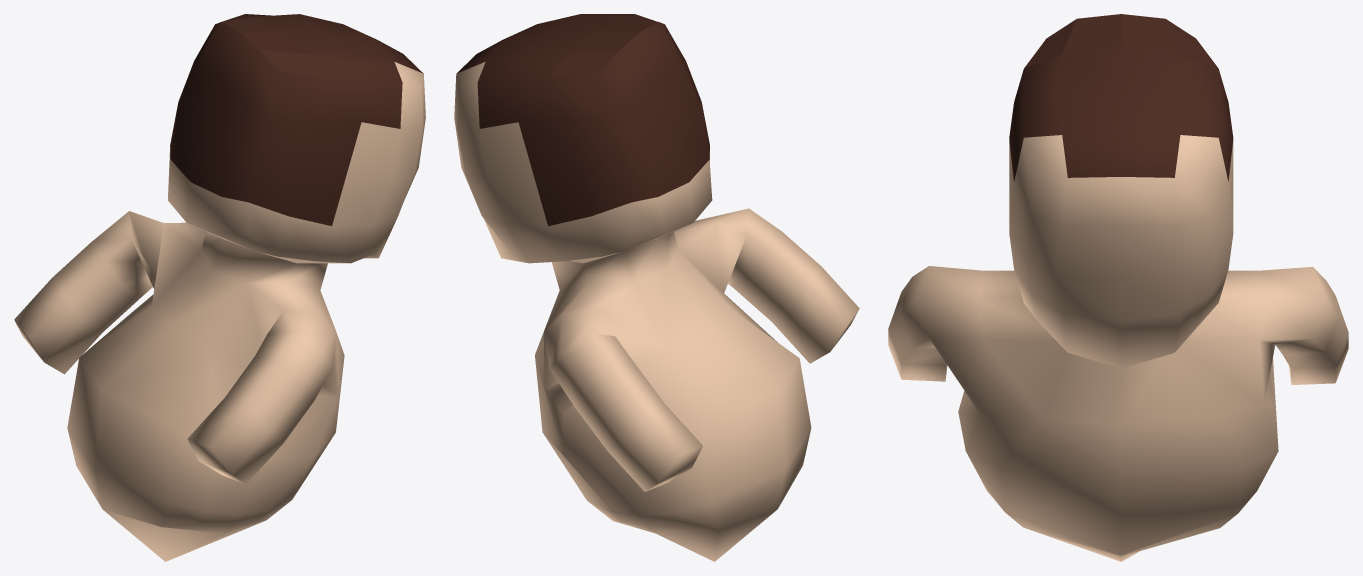
The model's file is the dude.fbx.
The picture shows the model from 3 angles, left to right: view 1: azimuth 30°, elevation 25°; view 2: azimuth 150°, elevation 25°; view 3: azimuth 270°, elevation 25°; orthographic projection. The views are drawn at different scales.
Parts seen in each view (by area): view 1: Cube; view 2: Cube; view 3: Cube.
Part boxes in pixels (x1,y1,x2,y2): Cube: (14, 14, 425, 561); Cube: (454, 14, 859, 561); Cube: (888, 14, 1348, 561).
Size of the model in its own units: 319 by 503 by 356.
